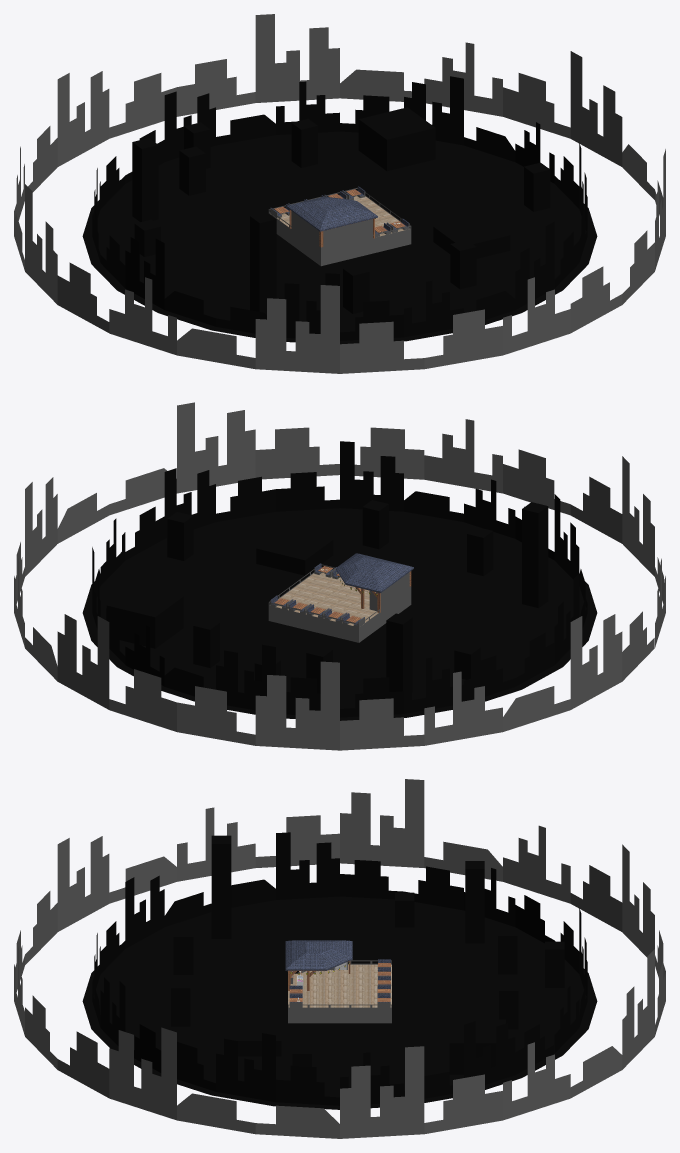
The model's file is rooftop2.gltf.
The picture shows the model from 3 angles, top to bottom: view 1: azimuth 30°, elevation 25°; view 2: azimuth 150°, elevation 25°; view 3: azimuth 270°, elevation 25°; orthographic projection.
Visible parts, largest first — view 1: group_0.022, group_4, group_0.002, group_3, group_0.008, group_0.016, group_0.001, group_8, group_5, group_4.001, group_9, group_16 (+24 smaller); view 2: group_4, group_0.022, group_0.002, group_16, group_0.008, group_3, group_0.001, group_9, group_3.002, group_0.016, group_11, group_5 (+23 smaller); view 3: group_0.022, group_4, group_19, group_11, group_3.002, group_0.008, group_8, group_3, group_4.001, group_5, group_18, group_0.002 (+24 smaller).
Part boxes in pixels (<box>): group_0.022: <box>82,131,597,344</box>; group_4: <box>14,14,665,373</box>; group_0.002: <box>358,107,435,170</box>; group_3: <box>268,187,411,266</box>; group_0.008: <box>250,212,276,315</box>; group_0.016: <box>132,138,158,221</box>; group_0.001: <box>433,215,510,258</box>; group_8: <box>404,76,463,145</box>; group_5: <box>286,196,377,231</box>; group_4.001: <box>57,262,109,332</box>; group_9: <box>164,91,215,161</box>; group_16: <box>515,222,554,309</box>; group_4: <box>14,402,665,750</box>; group_0.022: <box>82,508,597,720</box>; group_0.002: <box>106,585,183,648</box>; group_16: <box>340,441,403,511</box>; group_0.008: <box>522,502,548,607</box>; group_3: <box>268,564,411,642</box>; group_0.001: <box>256,528,333,575</box>; group_9: <box>216,644,275,710</box>; group_3.002: <box>288,573,373,619</box>; group_0.016: <box>386,613,412,692</box>; group_11: <box>164,468,215,538</box>; group_5: <box>336,553,413,592</box>; group_0.022: <box>82,896,597,1109</box>; group_4: <box>14,779,665,1138</box>; group_19: <box>276,832,339,899</box>; group_11: <box>216,1033,275,1102</box>; group_3.002: <box>296,968,377,1004</box>; group_0.008: <box>211,835,231,938</box>; group_8: <box>464,1021,515,1084</box>; group_3: <box>288,960,391,1023</box>; group_4.001: <box>255,815,339,867</box>; group_5: <box>285,940,352,970</box>; group_18: <box>125,875,164,948</box>; group_0.002: <box>449,1019,505,1074</box>.
Size of the model in its own units: 110 by 17.72 by 110.
26 materials, 4 textured.
